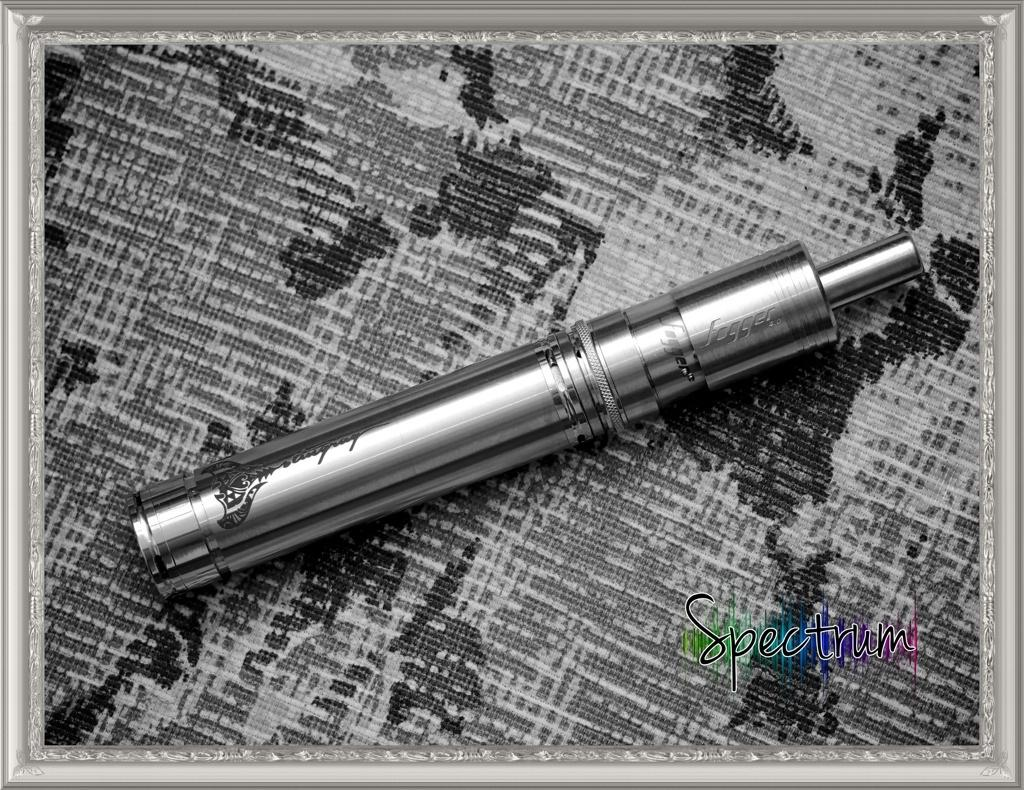pen: (123, 219, 939, 607)
